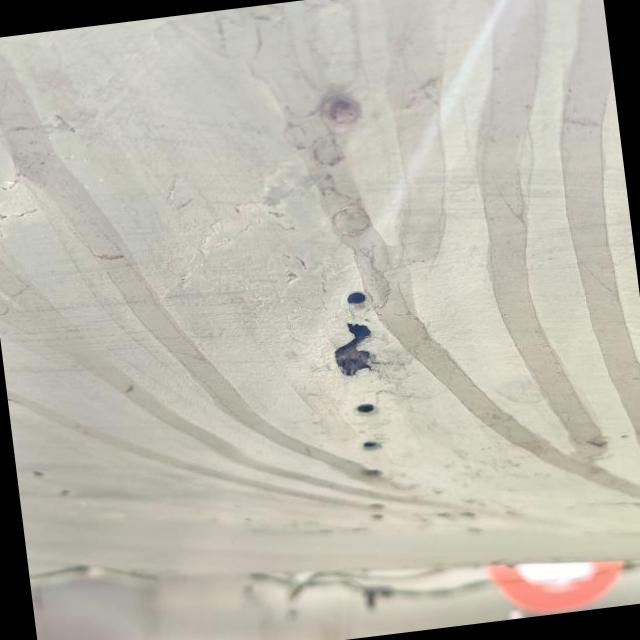Crack: (334, 324, 370, 376)
